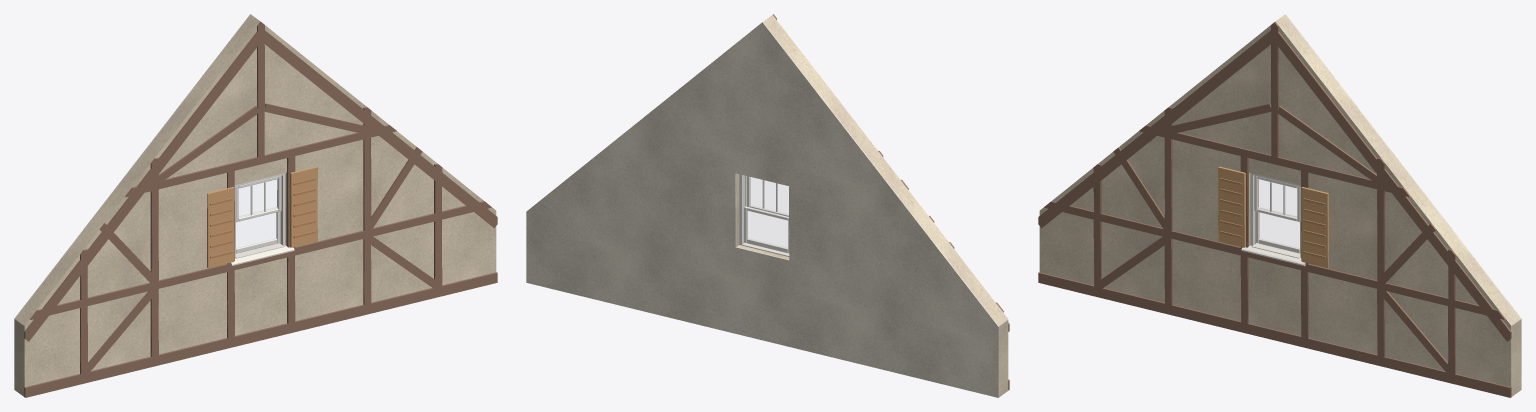
File: gable_timbered.glb
3 renders of one model, left to right at view 1: azimuth 30°, elevation 25°; view 2: azimuth 150°, elevation 25°; view 3: azimuth 330°, elevation 25°, orthographic.
Parts seen in each view (by area): view 1: gable_timbered_render, gable_timbered_timber, gable_timbered_shutter, gable_timbered_glass, gable_timbered_sash, gable_timbered_shutter_dark, gable_timbered_trim, gable_timbered_plaster, gable_timbered_frame; view 2: gable_timbered_plaster, gable_timbered_render, gable_timbered_glass, gable_timbered_sash, gable_timbered_frame; view 3: gable_timbered_render, gable_timbered_timber, gable_timbered_shutter, gable_timbered_glass, gable_timbered_sash, gable_timbered_shutter_dark, gable_timbered_trim, gable_timbered_plaster, gable_timbered_frame.
Part boxes in pixels (bbox=[...]): gable_timbered_render: bbox=[15, 14, 496, 396]; gable_timbered_timber: bbox=[24, 21, 497, 397]; gable_timbered_shutter: bbox=[207, 166, 317, 267]; gable_timbered_glass: bbox=[236, 180, 277, 247]; gable_timbered_sash: bbox=[235, 175, 281, 253]; gable_timbered_shutter_dark: bbox=[210, 178, 315, 258]; gable_timbered_trim: bbox=[230, 243, 294, 266]; gable_timbered_plaster: bbox=[14, 14, 277, 389]; gable_timbered_frame: bbox=[234, 173, 285, 257]; gable_timbered_plaster: bbox=[526, 22, 999, 397]; gable_timbered_render: bbox=[736, 15, 1008, 396]; gable_timbered_glass: bbox=[748, 177, 788, 247]; gable_timbered_sash: bbox=[744, 176, 789, 253]; gable_timbered_frame: bbox=[739, 174, 746, 245]; gable_timbered_render: bbox=[1039, 14, 1520, 396]; gable_timbered_timber: bbox=[1038, 21, 1511, 397]; gable_timbered_shutter: bbox=[1218, 166, 1328, 267]; gable_timbered_glass: bbox=[1258, 180, 1299, 247]; gable_timbered_sash: bbox=[1254, 175, 1300, 253]; gable_timbered_shutter_dark: bbox=[1220, 178, 1325, 258]; gable_timbered_trim: bbox=[1241, 243, 1305, 266]; gable_timbered_plaster: bbox=[1258, 14, 1521, 389]; gable_timbered_frame: bbox=[1250, 173, 1301, 257].
Size of the model in its own units: 8 by 5.15 by 0.385.
Materials: 9 (2 with a texture image).
